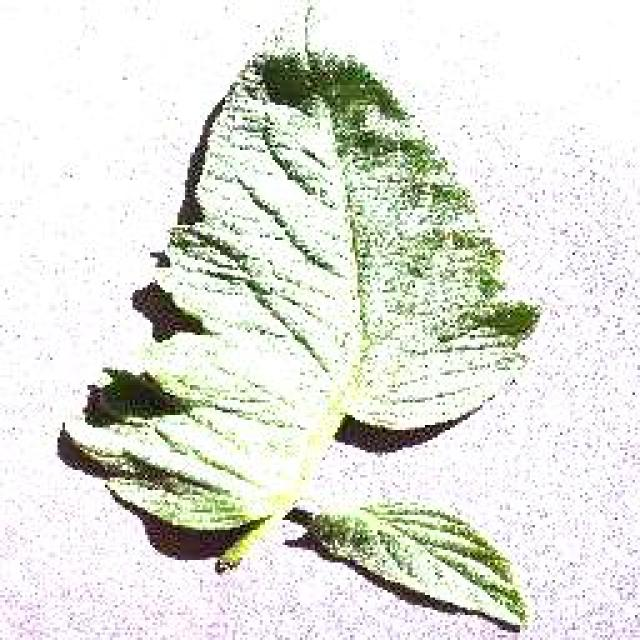Tomato___healthy: (57, 0, 546, 631)
